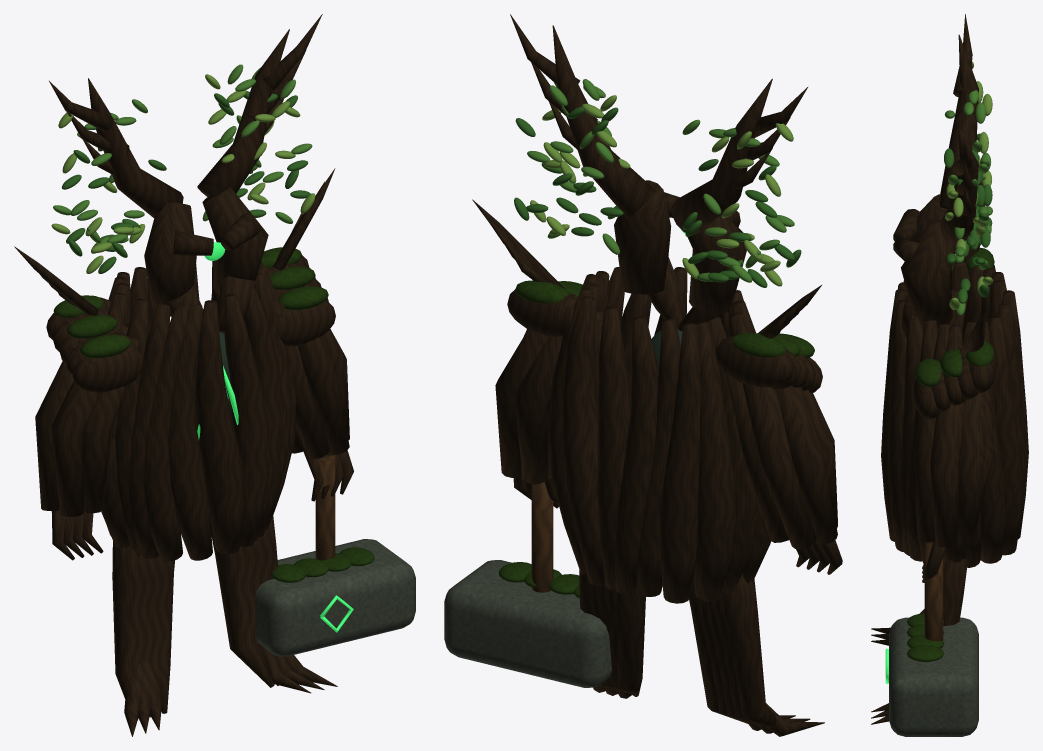
The model's file is hollow-warden-sculpted.glb.
3 views of the same model, side by side, from view 1: azimuth 30°, elevation 25°; view 2: azimuth 150°, elevation 25°; view 3: azimuth 270°, elevation 25° (orthographic). The views are drawn at different scales.
Parts seen in each view (by area): view 1: Interwoven trunk root, Braided arm.006, Braided arm; view 2: Interwoven trunk root, Braided arm.006, Braided arm; view 3: Interwoven trunk root, Braided arm.006, Braided arm.
Part boxes in pixels (left/top/right/bottom): Interwoven trunk root: left=49, top=14, right=337, bottom=736; Braided arm.006: left=254, top=168, right=415, bottom=656; Braided arm: left=14, top=246, right=143, bottom=560; Interwoven trunk root: left=510, top=14, right=824, bottom=736; Braided arm.006: left=444, top=199, right=611, bottom=687; Braided arm: left=715, top=285, right=842, bottom=574; Interwoven trunk root: left=871, top=14, right=1028, bottom=724; Braided arm.006: left=885, top=312, right=996, bottom=736; Braided arm: left=948, top=182, right=995, bottom=329.
Size of the model in its own units: 1.88 by 3.17 by 0.7549.
9 materials, 4 textured.
